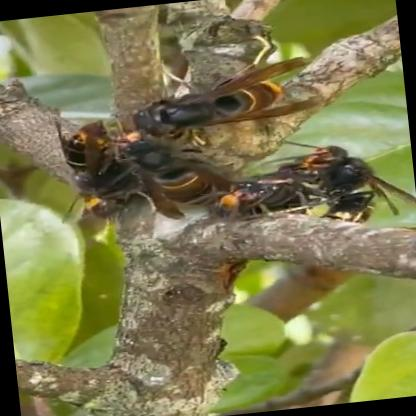bee: (5, 13, 415, 276)
